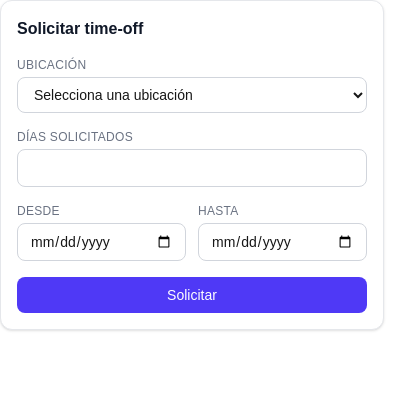
Test: submitting a valid request shows success feedback and resets the form
Select "Ciudad de México" in the dropdown at (192, 95), box [17,77,367,113]
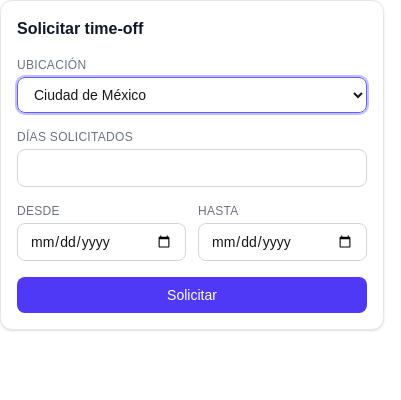
Type "3" into the number field at (192, 168), box [17,149,367,187]
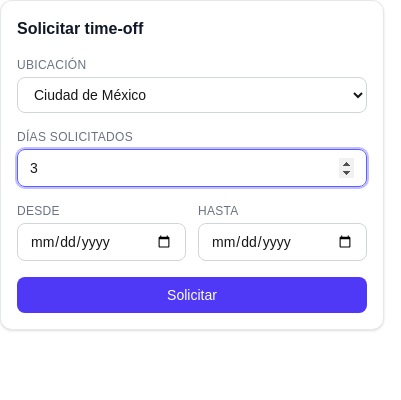
Type "2026-07-01" into the date field labelled "Desde" at (102, 242), box [17,223,186,261]
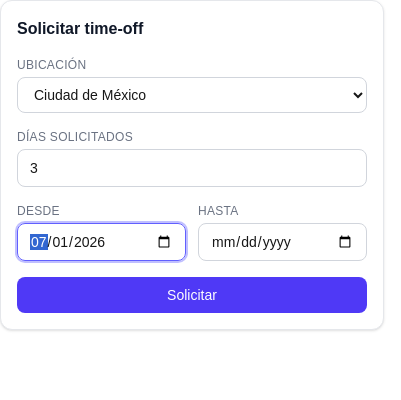
Type "2026-07-03" into the date field labelled "Hasta" at (282, 242), box [198,223,367,261]
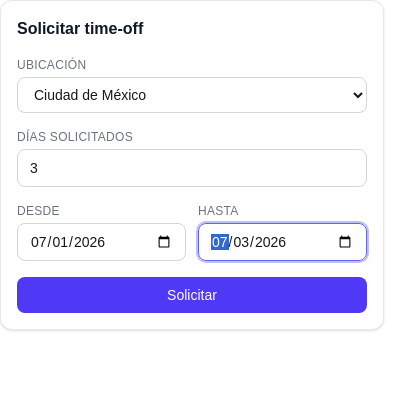
Click the button "Solicitar" at (192, 295), box [17,277,367,313]
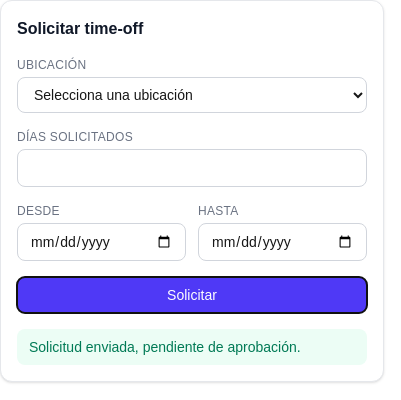
Expected: the text "Solicitud enviada, pendiente de aprobación." is shown, [17,329,367,365]
